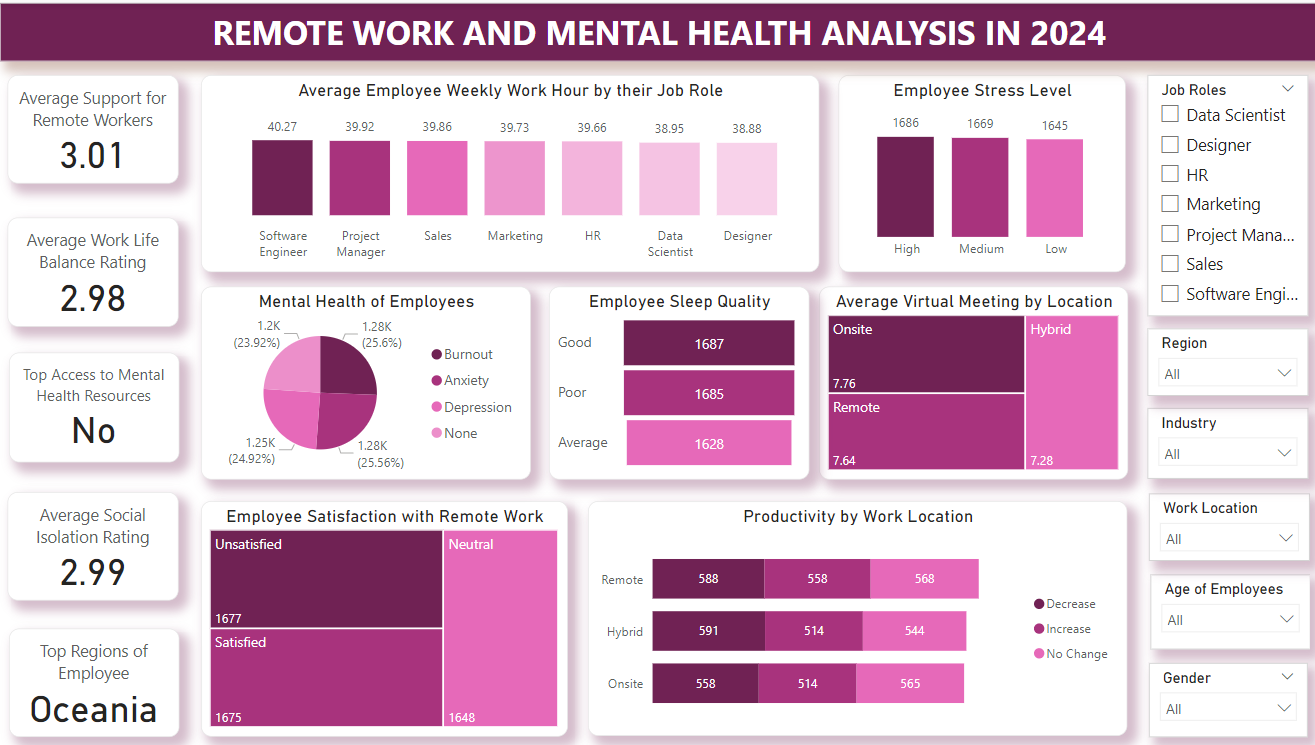

This screenshot's page, from the dashboard's own definition file:
{"tool":"powerbi","page":{"name":"Page 1","canvas":[1280,720],"ordinal":0},"visuals":[{"type":"columnChart","title":"Employee Stress Level","fields":{"Category":["Impact_of_Remote_Work_on_Mental_Health.Stress_Level"],"Y":["CountNonNull(Impact_of_Remote_Work_on_Mental_Health.Stress_Level)"]},"box":[813.8,69.7,278.6,191.4],"z":0},{"type":"textbox","box":[0,0,1280,56.9],"z":1000},{"type":"treemap","title":"Average Virtual Meeting by Location","fields":{"Group":["Impact_of_Remote_Work_on_Mental_Health.Work_Location"],"Values":["Avg(Impact_of_Remote_Work_on_Mental_Health.Number_of_Virtual_Meetings)"]},"box":[795,275,300,187.5],"z":2000},{"type":"columnChart","title":"Average Employee Weekly Work Hour by their Job Role","fields":{"Category":["Impact_of_Remote_Work_on_Mental_Health.Job_Role"],"Y":["Avg(Impact_of_Remote_Work_on_Mental_Health.Hours_Worked_Per_Week)"]},"box":[195,70.1,600,191.4],"z":3000},{"type":"treemap","title":"Employee Satisfaction with Remote Work","fields":{"Group":["Impact_of_Remote_Work_on_Mental_Health.Satisfaction_with_Remote_Work"],"Values":["CountNonNull(Impact_of_Remote_Work_on_Mental_Health.Satisfaction_with_Remote_Work)"]},"box":[195,483,355.7,228.6],"z":4000},{"type":"pieChart","title":"Mental Health of Employees","fields":{"Category":["Impact_of_Remote_Work_on_Mental_Health.Mental_Health_Condition"],"Y":["CountNonNull(Impact_of_Remote_Work_on_Mental_Health.Mental_Health_Condition)"]},"box":[195,275,320,187.5],"z":5000},{"type":"barChart","title":"Productivity by Work Location","fields":{"Category":["Impact_of_Remote_Work_on_Mental_Health.Work_Location"],"Series":["Impact_of_Remote_Work_on_Mental_Health.Productivity_Change"],"Y":["CountNonNull(Impact_of_Remote_Work_on_Mental_Health.Productivity_Change)"]},"box":[570,483,523.3,227.8],"z":6000},{"type":"slicer","fields":{"Values":["Impact_of_Remote_Work_on_Mental_Health.Job_Role"]},"box":[1114,70,156,234],"z":7000},{"type":"slicer","fields":{"Values":["Impact_of_Remote_Work_on_Mental_Health.Age"]},"box":[1115.8,555,155,72.5],"z":8000},{"type":"slicer","fields":{"Values":["Impact_of_Remote_Work_on_Mental_Health.Work_Location"]},"box":[1115,476.7,155.8,65],"z":9000},{"type":"cardVisual","fields":{"Data":["Min(Impact_of_Remote_Work_on_Mental_Health.Region)"]},"box":[8.2,607.3,165.5,105.5],"z":10000},{"type":"cardVisual","fields":{"Data":["Min(Impact_of_Remote_Work_on_Mental_Health.Access_to_Mental_Health_Resources)"]},"box":[8.2,339.1,165.5,106.4],"z":11000},{"type":"slicer","fields":{"Values":["Impact_of_Remote_Work_on_Mental_Health.Industry"]},"box":[1114.2,393.3,155.8,68.3],"z":12000},{"type":"slicer","fields":{"Values":["Impact_of_Remote_Work_on_Mental_Health.Gender"]},"box":[1115,641,154,72],"z":13000},{"type":"slicer","fields":{"Values":["Impact_of_Remote_Work_on_Mental_Health.Region"]},"box":[1114.2,315.8,155.8,65],"z":14000},{"type":"cardVisual","fields":{"Data":["Avg(Impact_of_Remote_Work_on_Mental_Health.Company_Support_for_Remote_Work)"]},"box":[8,70,166,105],"z":15000},{"type":"cardVisual","fields":{"Data":["Avg(Impact_of_Remote_Work_on_Mental_Health.Work_Life_Balance_Rating)"]},"box":[7,208,166,106],"z":16000},{"type":"cardVisual","fields":{"Data":["Avg(Impact_of_Remote_Work_on_Mental_Health.Social_Isolation_Rating)"]},"box":[8,475,166,105],"z":17000},{"type":"funnel","title":"Employee Sleep Quality","fields":{"Category":["Impact_of_Remote_Work_on_Mental_Health.Sleep_Quality"],"Y":["CountNonNull(Impact_of_Remote_Work_on_Mental_Health.Sleep_Quality)"]},"box":[532.5,275,252.5,187.5],"z":18000}]}

Visuals, with their boxes in screenshot pixels (x1, y1, x2, y2), scaled from the page's 1280x720 canvas onto the 1315x745 screenshot:
"Employee Stress Level" columnChart: <region>836, 72, 1122, 270</region>
textbox: <region>0, 0, 1314, 59</region>
"Average Virtual Meeting by Location" treemap: <region>817, 285, 1125, 479</region>
"Average Employee Weekly Work Hour by their Job Role" columnChart: <region>200, 73, 817, 271</region>
"Employee Satisfaction with Remote Work" treemap: <region>200, 500, 566, 736</region>
"Mental Health of Employees" pieChart: <region>200, 285, 529, 479</region>
"Productivity by Work Location" barChart: <region>586, 500, 1123, 735</region>
slicer - Impact_of_Remote_Work_on_Mental_Health.Job_Role: <region>1144, 72, 1305, 315</region>
slicer - Impact_of_Remote_Work_on_Mental_Health.Age: <region>1146, 574, 1306, 649</region>
slicer - Impact_of_Remote_Work_on_Mental_Health.Work_Location: <region>1145, 493, 1306, 561</region>
cardVisual - Min(Impact_of_Remote_Work_on_Mental_Health.Region): <region>8, 628, 178, 738</region>
cardVisual - Min(Impact_of_Remote_Work_on_Mental_Health.Access_to_Mental_Health_Resources): <region>8, 351, 178, 461</region>
slicer - Impact_of_Remote_Work_on_Mental_Health.Industry: <region>1145, 407, 1305, 478</region>
slicer - Impact_of_Remote_Work_on_Mental_Health.Gender: <region>1145, 663, 1304, 738</region>
slicer - Impact_of_Remote_Work_on_Mental_Health.Region: <region>1145, 327, 1305, 394</region>
cardVisual - Avg(Impact_of_Remote_Work_on_Mental_Health.Company_Support_for_Remote_Work): <region>8, 72, 179, 181</region>
cardVisual - Avg(Impact_of_Remote_Work_on_Mental_Health.Work_Life_Balance_Rating): <region>7, 215, 178, 325</region>
cardVisual - Avg(Impact_of_Remote_Work_on_Mental_Health.Social_Isolation_Rating): <region>8, 491, 179, 600</region>
"Employee Sleep Quality" funnel: <region>547, 285, 806, 479</region>
